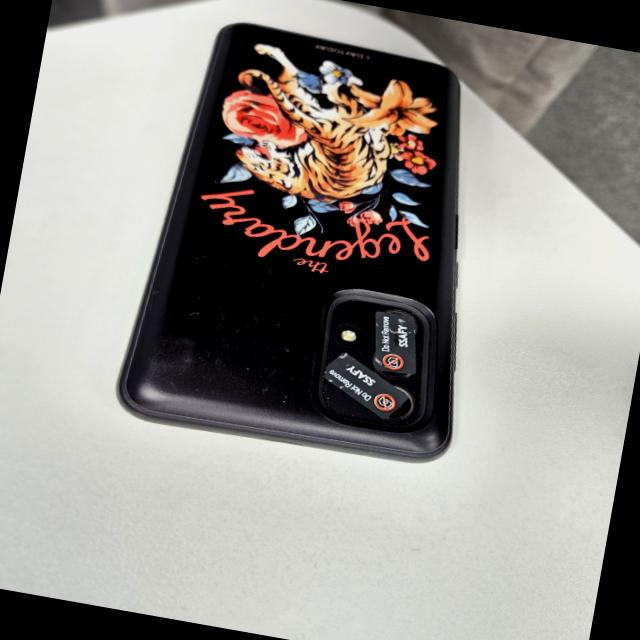phone: (109, 8, 518, 476)
sticker: (312, 349, 418, 420), (368, 305, 429, 379)
